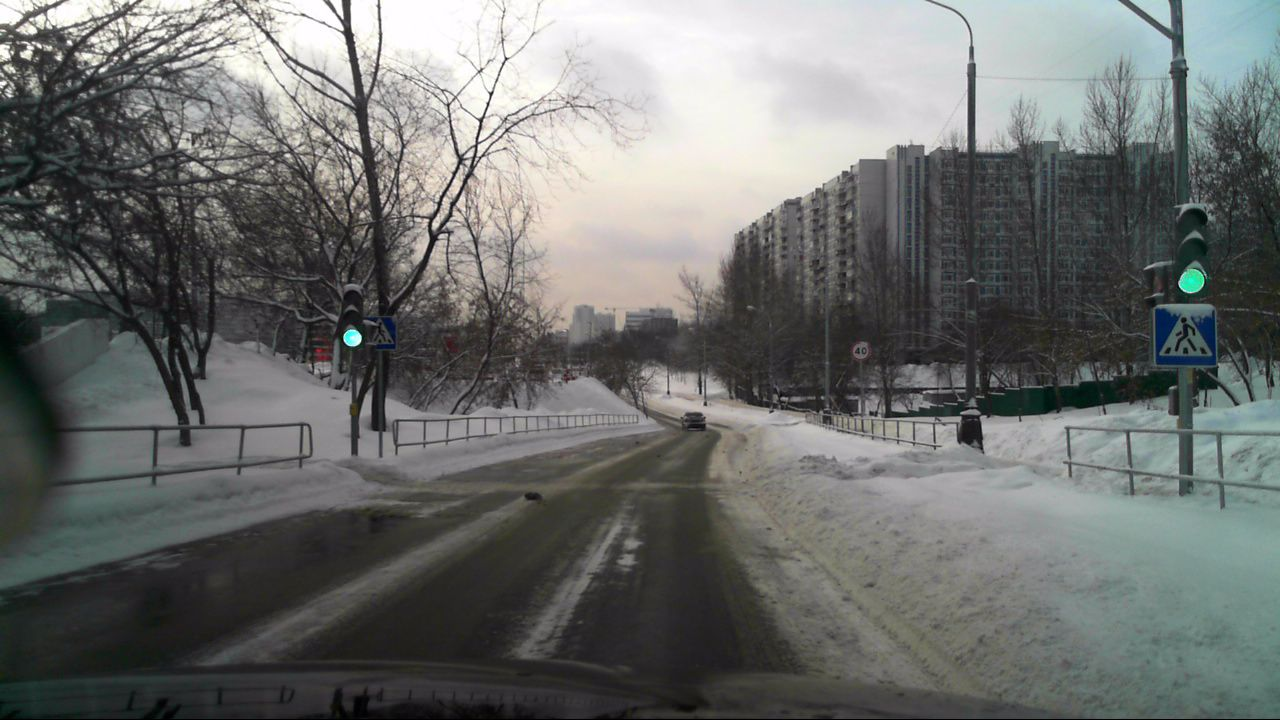speed_warning_40: (851, 341, 872, 363)
